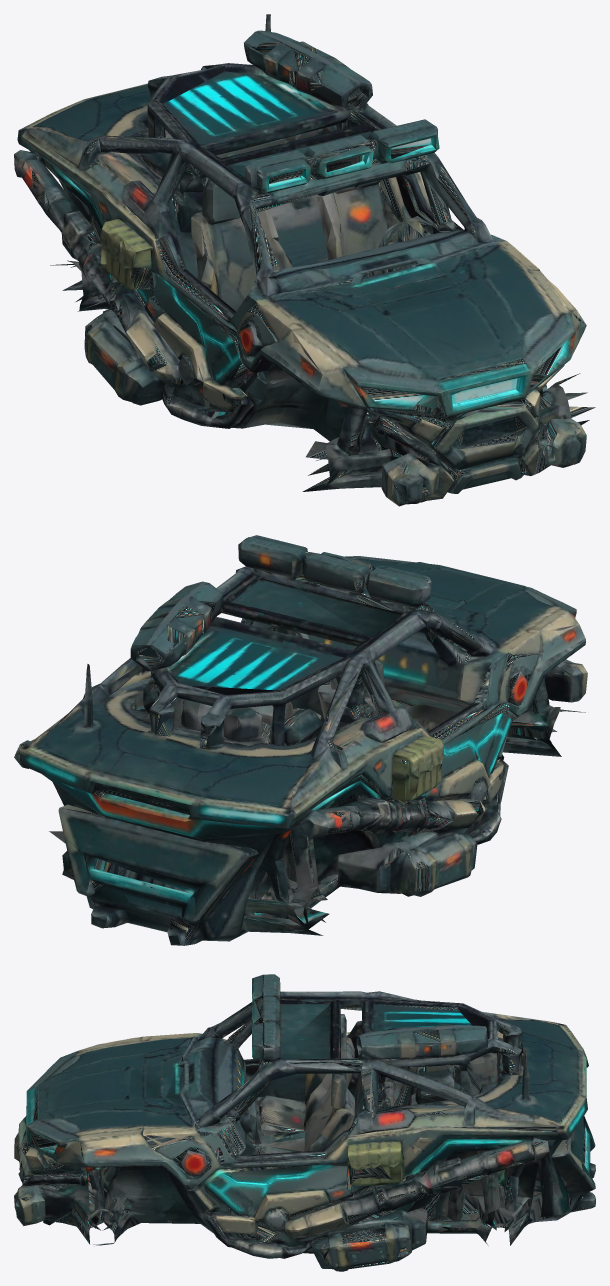
File: sixer_buggy.glb
3 renders of one model, top to bottom at view 1: azimuth 30°, elevation 25°; view 2: azimuth 150°, elevation 25°; view 3: azimuth 270°, elevation 25°, orthographic. The views are drawn at different scales.
Visible parts, largest first — view 1: hull, hull_lod; view 2: hull, hull_lod; view 3: hull, hull_lod.
Part boxes in pixels (x1,y1,x2,y2): hull: [14, 14, 586, 505]; hull_lod: [17, 29, 595, 506]; hull: [14, 535, 587, 945]; hull_lod: [14, 537, 585, 945]; hull: [14, 974, 595, 1271]; hull_lod: [15, 975, 595, 1270].
Size of the model in its own units: 2.47 by 1.72 by 4.4.
1 material, 1 textured.
